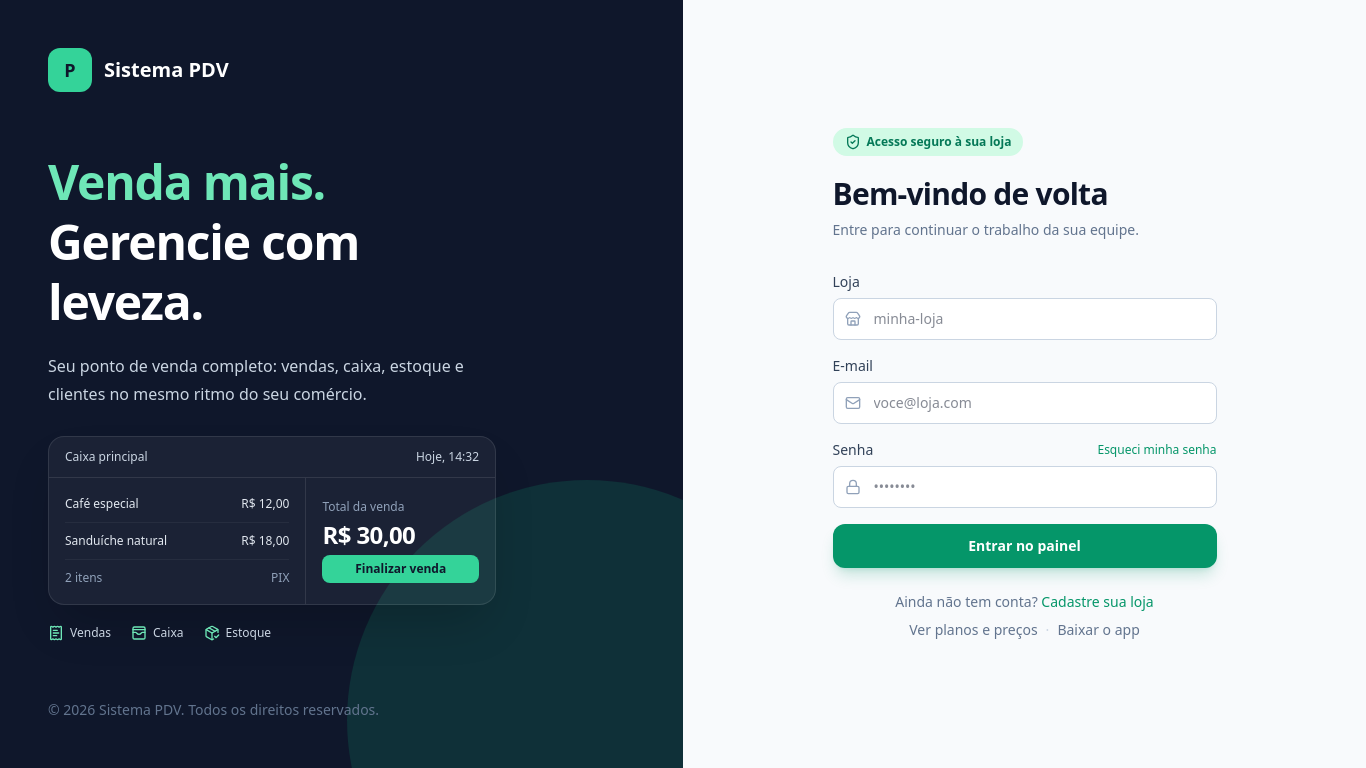
Test: Login › exibe a mensagem de erro da API quando o login falha
Type "loja-demo" into the field with placeholder "minha-loja" at (1024, 319), box 832,298 -> 1216,340
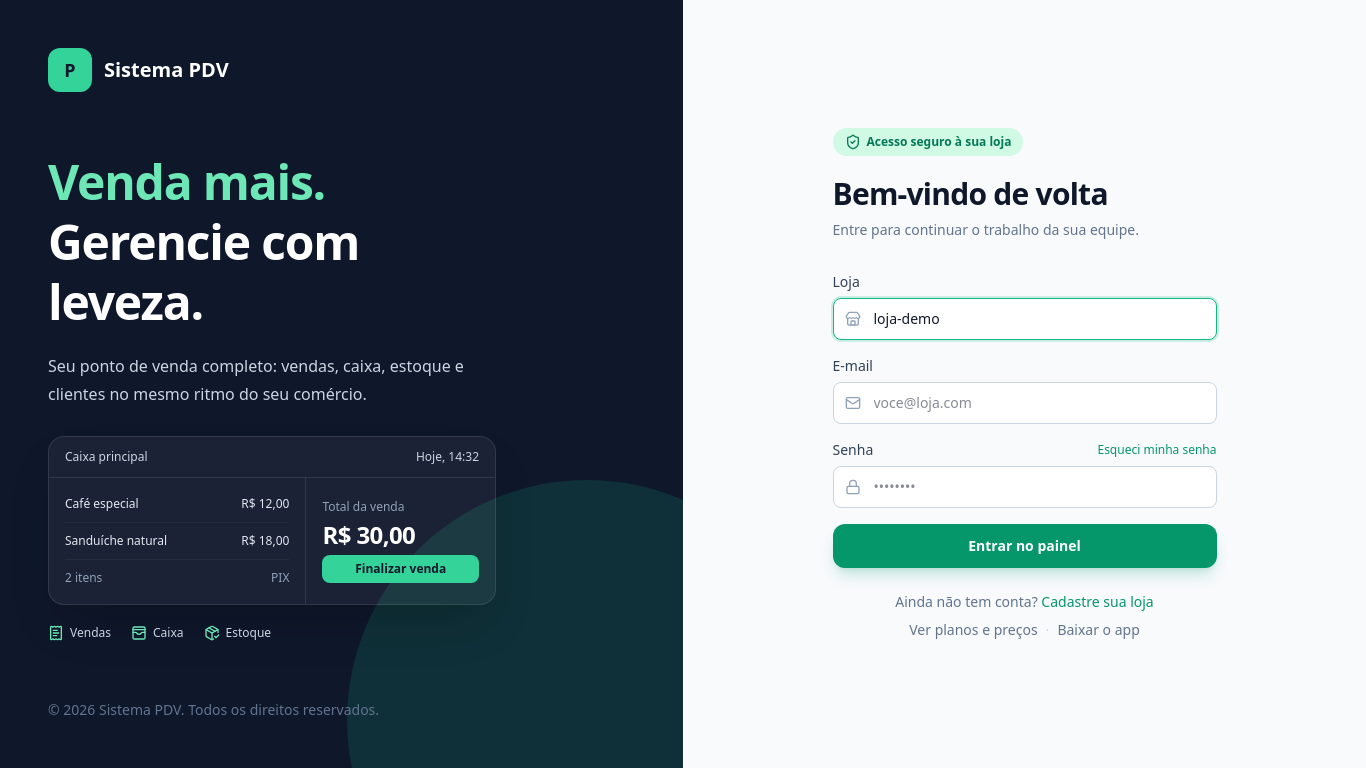
Type "demo@example.com" into the field with placeholder "voce@loja.com" at (1024, 403), box 832,382 -> 1216,424
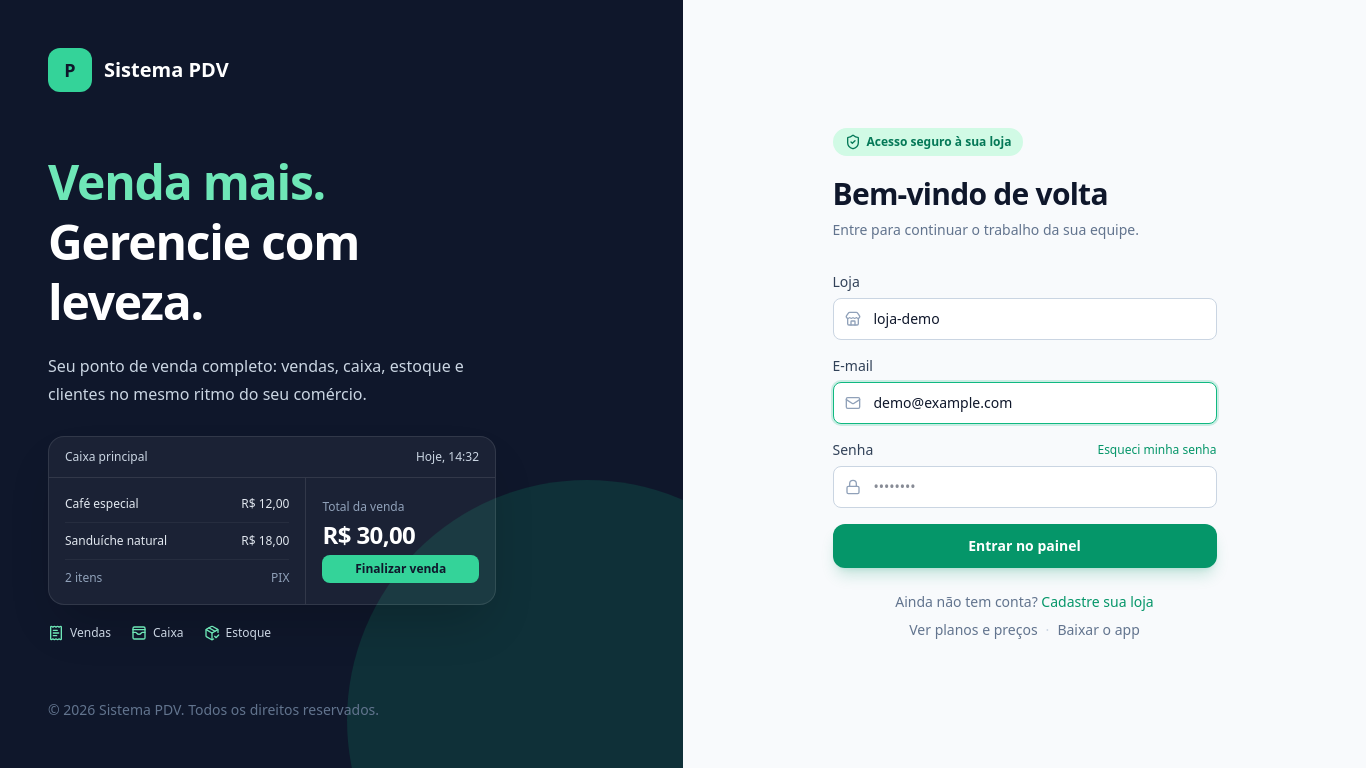
Type "errada" into the password field with placeholder "••••••••" at (1024, 487), box 832,466 -> 1216,508
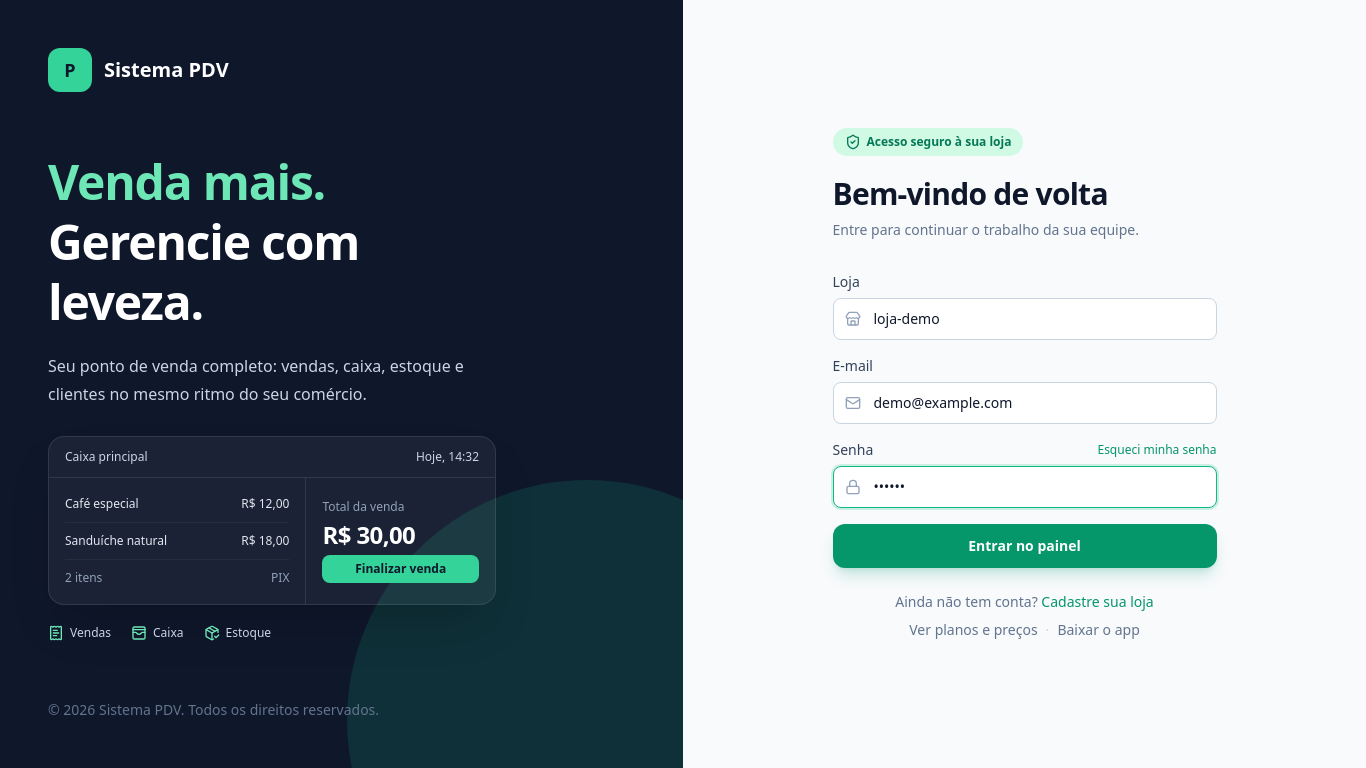
Click the button "Entrar no painel" at (1024, 546), box 832,524 -> 1216,568
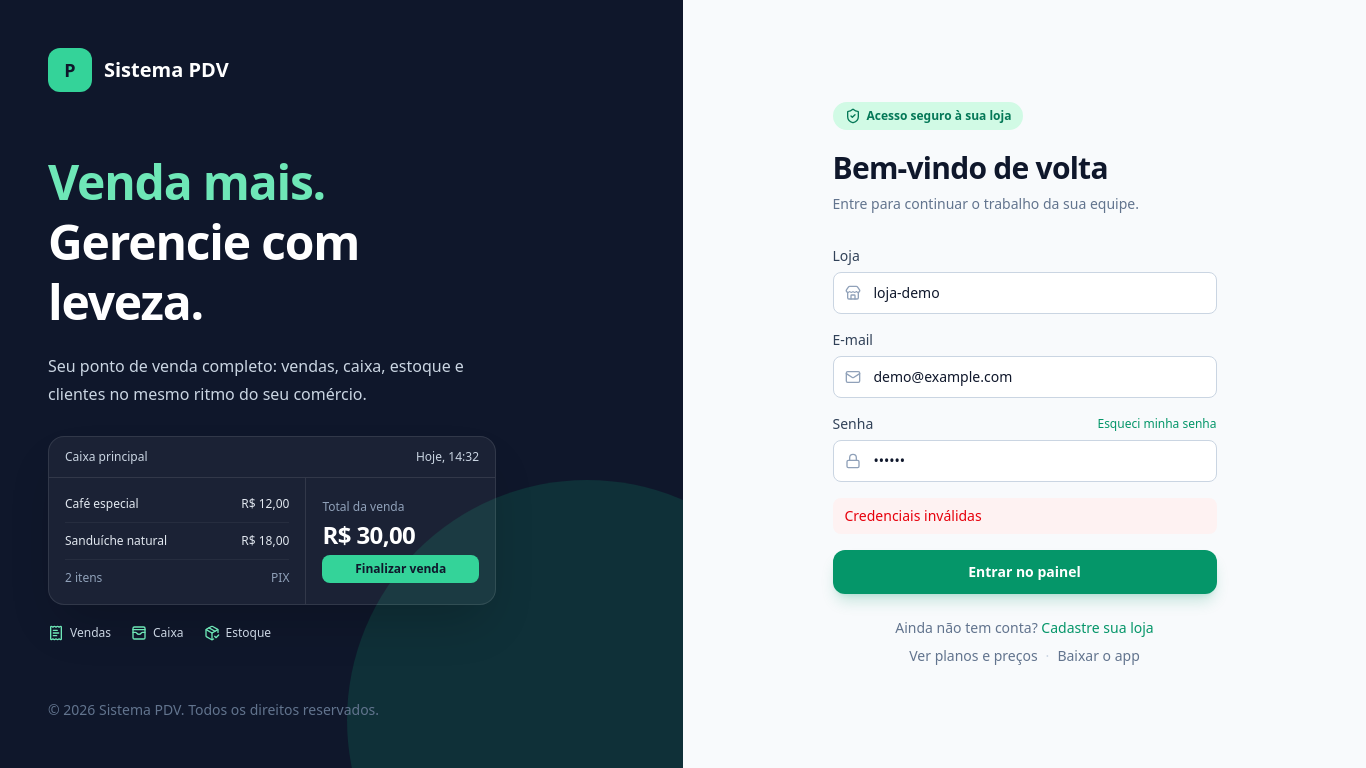
Expected: the text "Credenciais inválidas" is shown, 832,498 -> 1216,534
